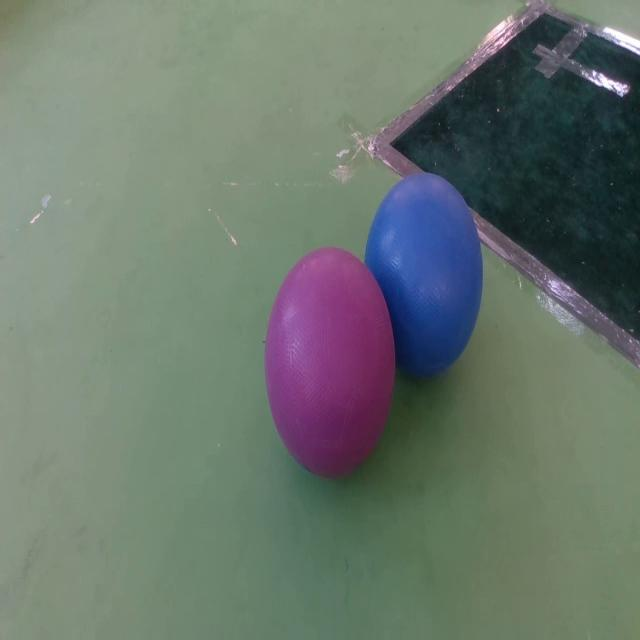blue: (366, 170, 483, 376)
invalid: (264, 249, 394, 477)
